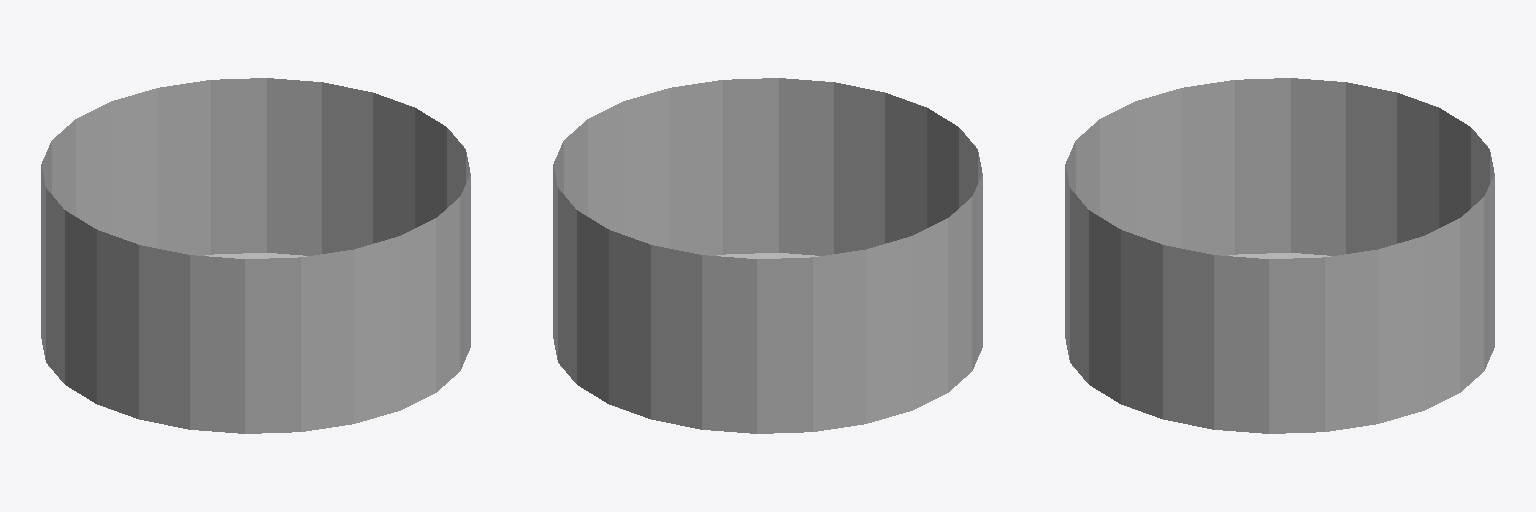
The model's file is original-23.obj.
3 renders of one model, left to right at view 1: azimuth 30°, elevation 25°; view 2: azimuth 150°, elevation 25°; view 3: azimuth 270°, elevation 25°, orthographic.
Visible parts, largest first — view 1: #ID161; view 2: #ID161; view 3: #ID161.
Part boxes in pixels (x1,y1,x2,y2): #ID161: (41,78,470,433); #ID161: (553,78,982,433); #ID161: (1065,78,1494,433).
Bounding box in the file's own units: 1.14 × 0.5121 × 1.14.